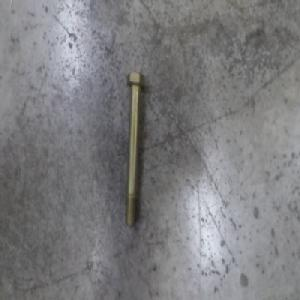Bolt: (124, 67, 147, 232)
